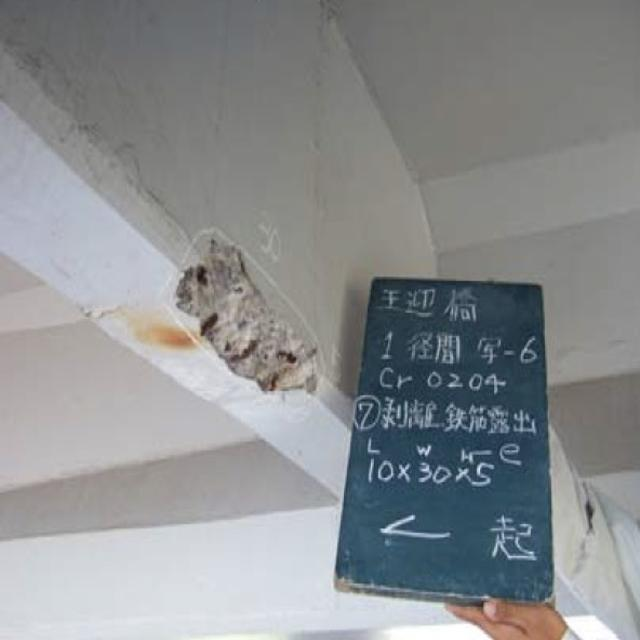spalling: (166, 220, 326, 424)
